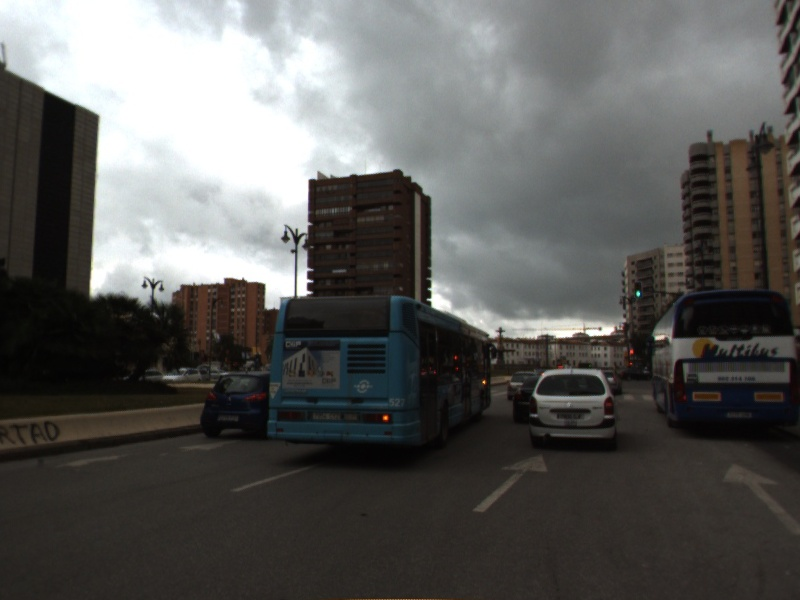STRAIGHT: (719, 461, 800, 536), (470, 451, 550, 515)
